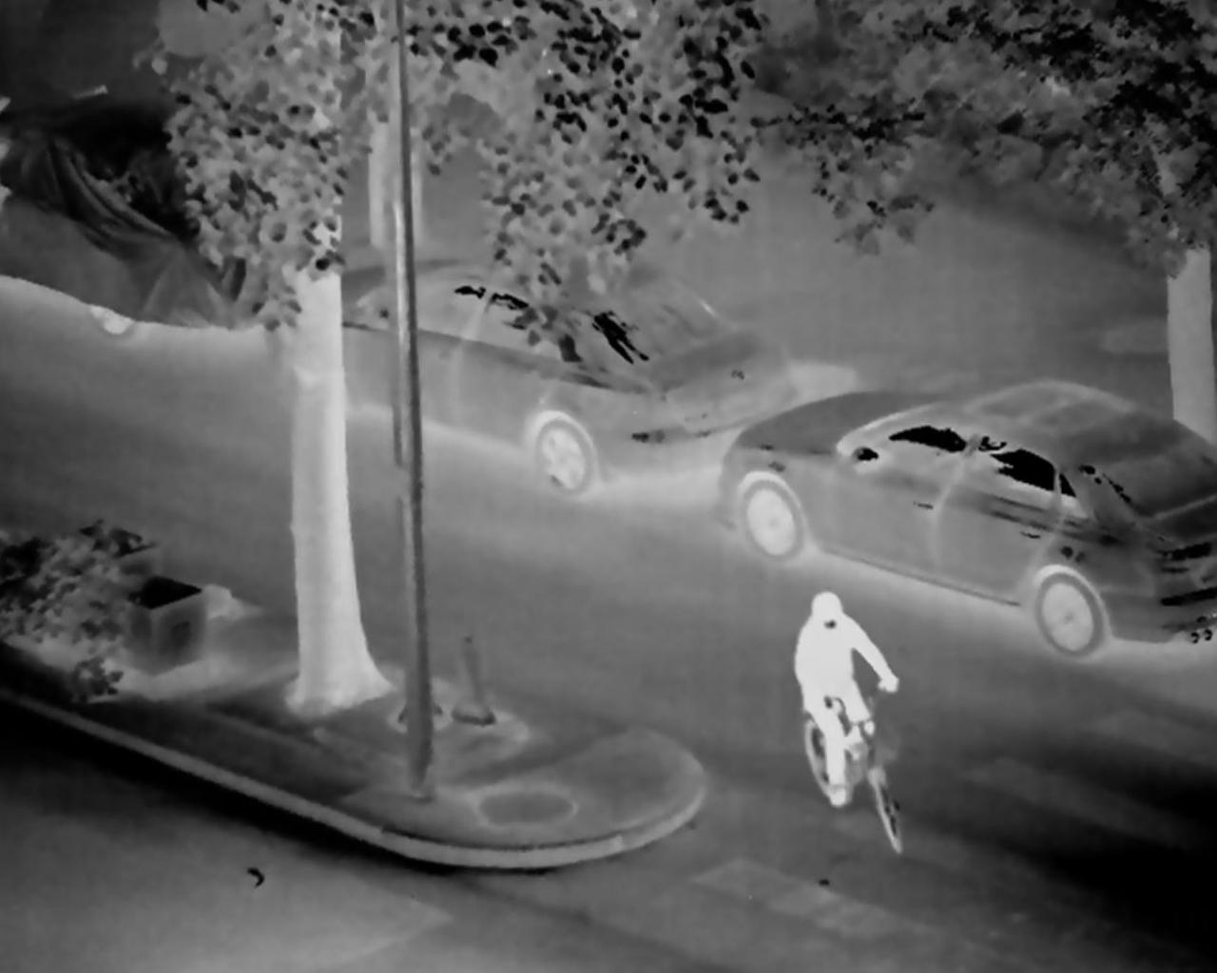person: (789, 590, 902, 814)
